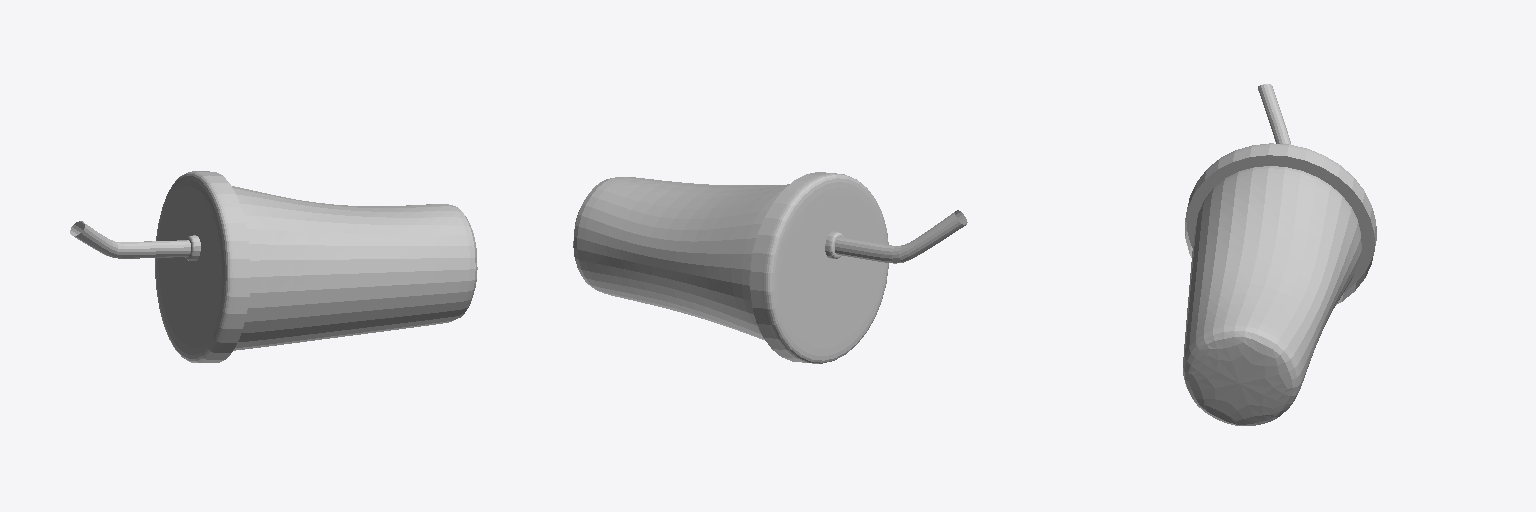
Rendered from Cup1.obj.
The picture shows the model from 3 angles: view 1: azimuth 30°, elevation 25°; view 2: azimuth 150°, elevation 25°; view 3: azimuth 270°, elevation 25°; orthographic projection.
Visible parts, largest first — view 1: Cup; view 2: Cup; view 3: Cup.
Boxes of the visible parts, <box> form: Cup: <box>70,171,477,362</box>; Cup: <box>573,172,967,363</box>; Cup: <box>1183,84,1376,425</box>.
Bounding box in the file's own units: 0.6353 × 0.2797 × 0.2785.